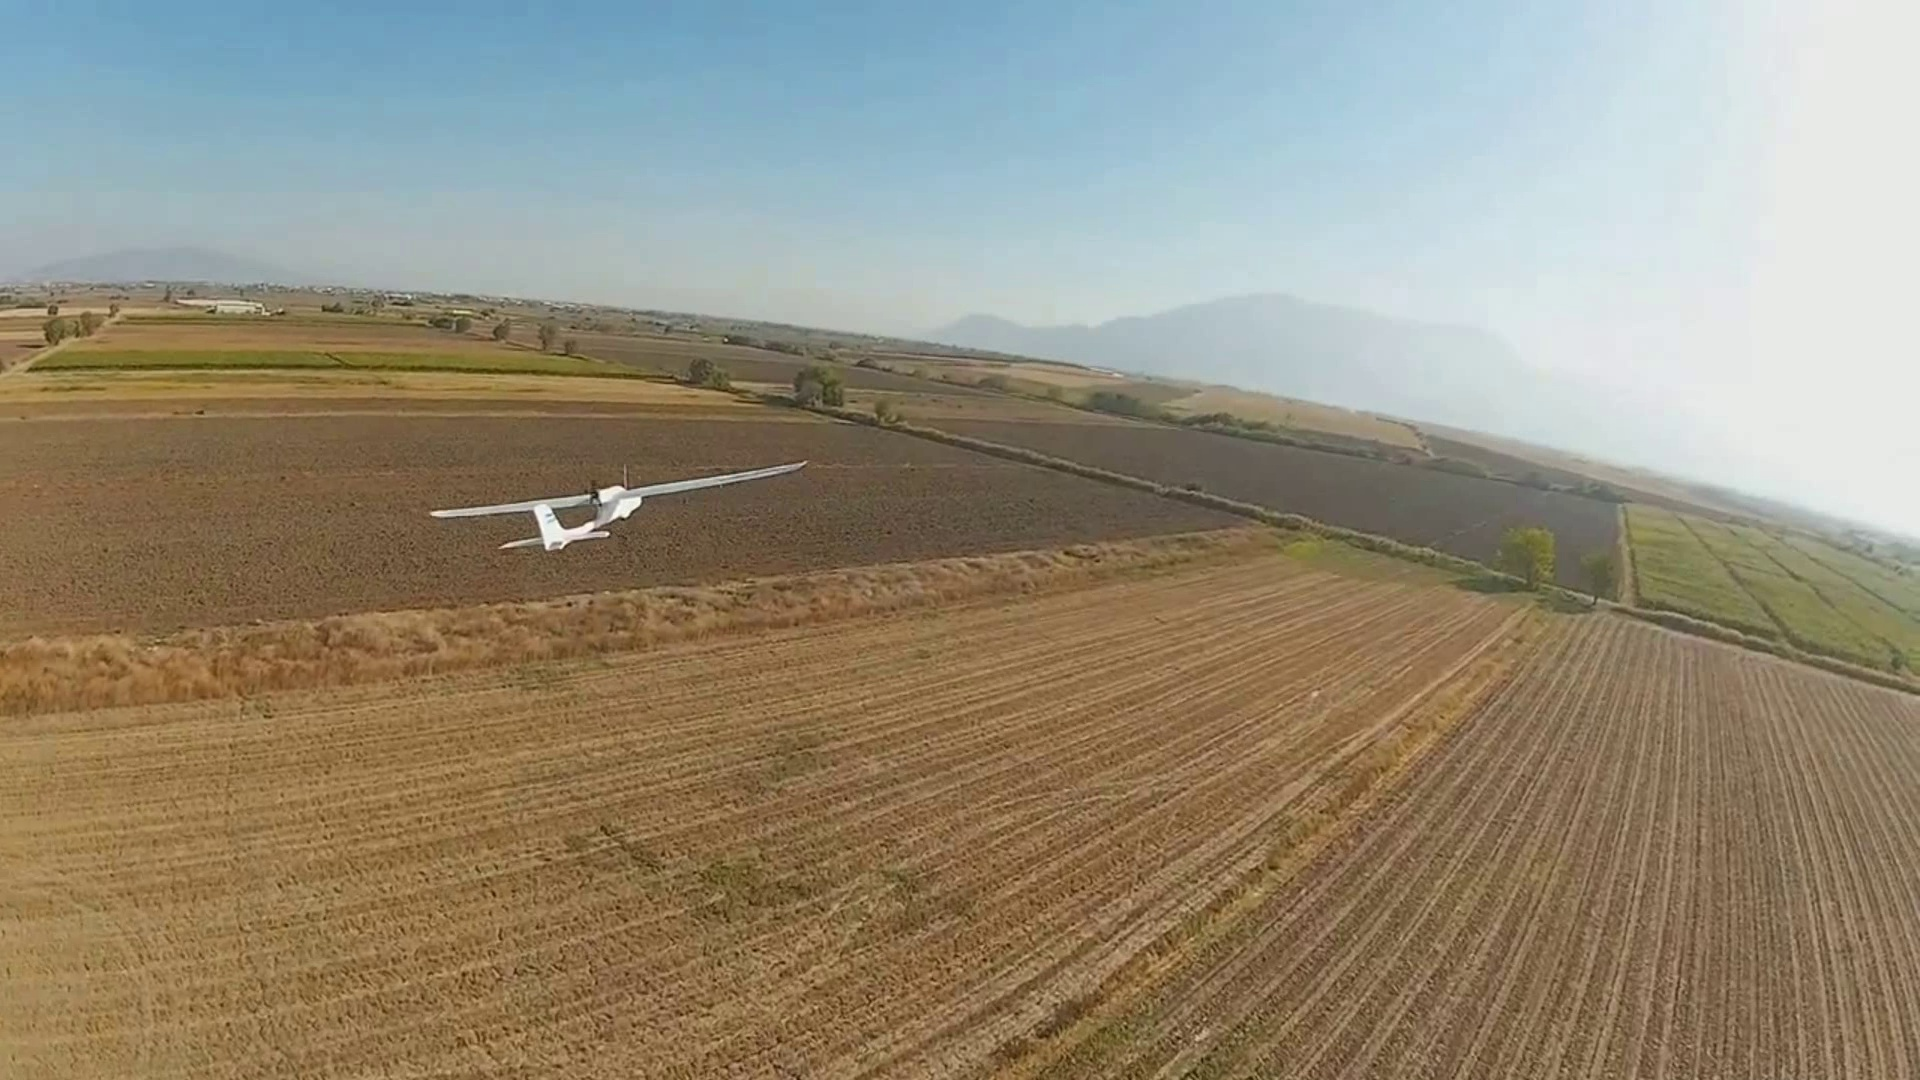airplane: (430, 457, 812, 554)
